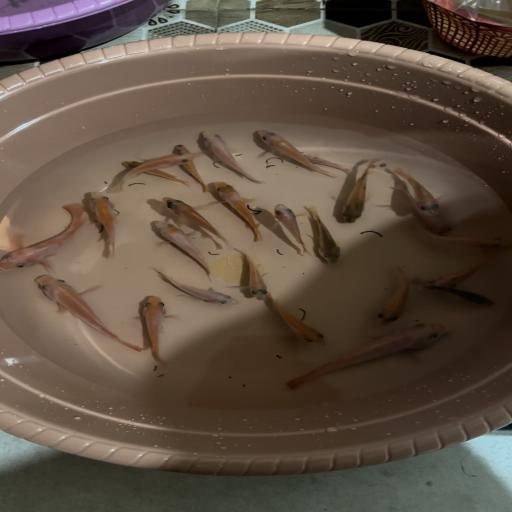nila: (284, 320, 451, 391), (26, 274, 144, 353), (0, 200, 92, 273), (248, 127, 336, 183), (142, 220, 218, 276), (210, 179, 272, 243), (332, 154, 388, 224), (148, 268, 244, 308), (384, 186, 458, 237), (130, 292, 180, 367), (196, 128, 264, 182), (387, 166, 456, 218), (112, 150, 194, 193), (162, 196, 238, 242), (82, 189, 128, 259), (368, 262, 414, 326), (268, 298, 326, 347), (413, 277, 496, 311), (263, 202, 316, 254), (304, 205, 343, 269), (406, 228, 512, 251), (228, 248, 272, 300), (428, 258, 500, 289), (169, 144, 214, 190), (119, 160, 187, 187), (304, 152, 352, 176)
